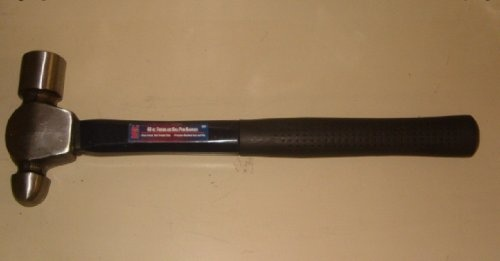hammer: (7, 49, 481, 210)
